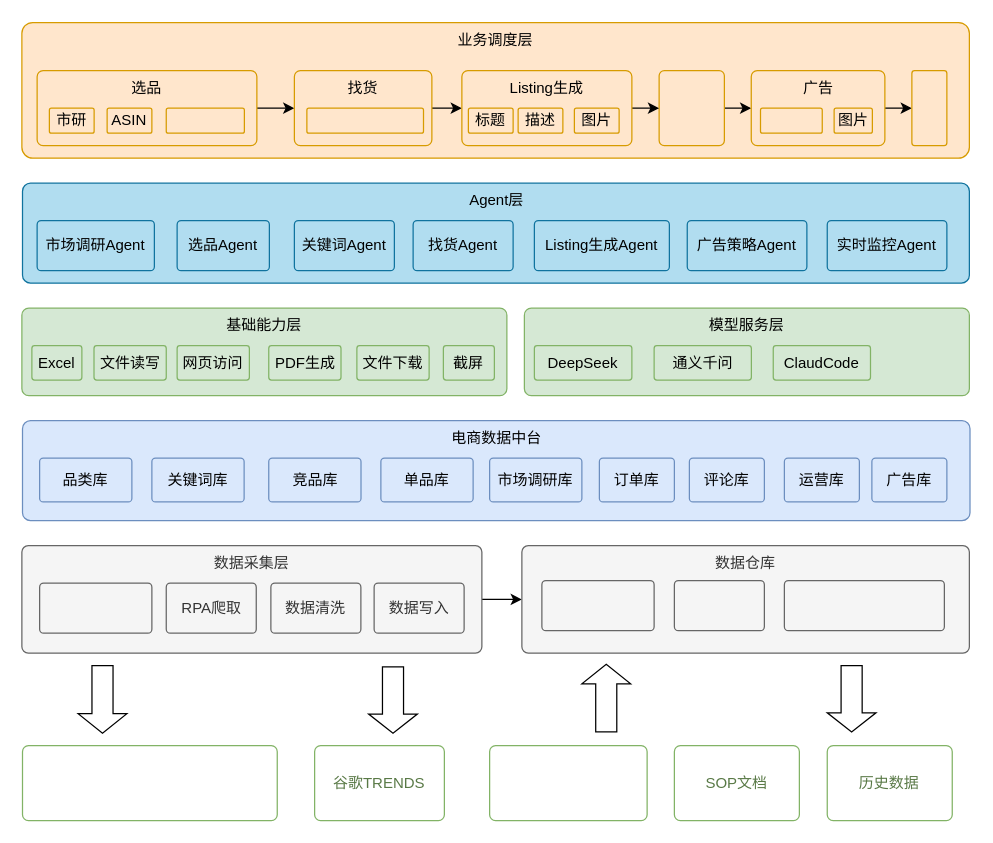
This 993x843 diagram has some shape labels left out. The centre of each missing label's shape, as x and y in pixels:
"1688谈判比价" belongs at (x=365, y=120).
"REFUND" belongs at (x=204, y=120).
"YOUTUBE/TIKTOK" belongs at (x=567, y=782).
"上架" belongs at (x=691, y=107).
"亚马逊 关键词、ASIN分析、评论、销量、描述、图片、REFUND、广告" belongs at (x=149, y=782).
"关键词" belongs at (x=790, y=120).
"向量知识库" belongs at (x=718, y=605).
"实时监控" belongs at (x=929, y=107).
"对象存储(图片、文件)" belongs at (x=863, y=605).
"结构化数据库" belongs at (x=597, y=605).
"网页爬取" belongs at (x=95, y=607).
